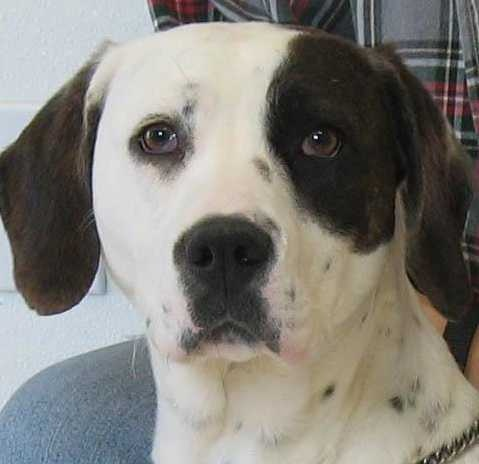dog: (0, 0, 442, 398)
